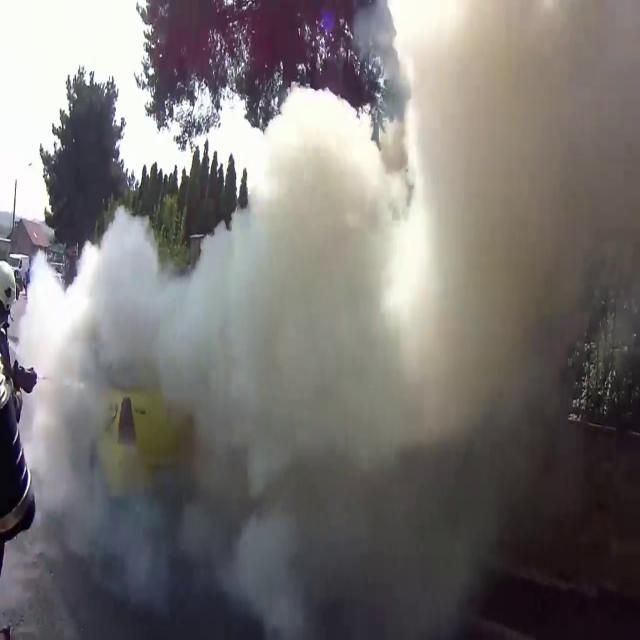Smoke: (2, 1, 640, 640)
